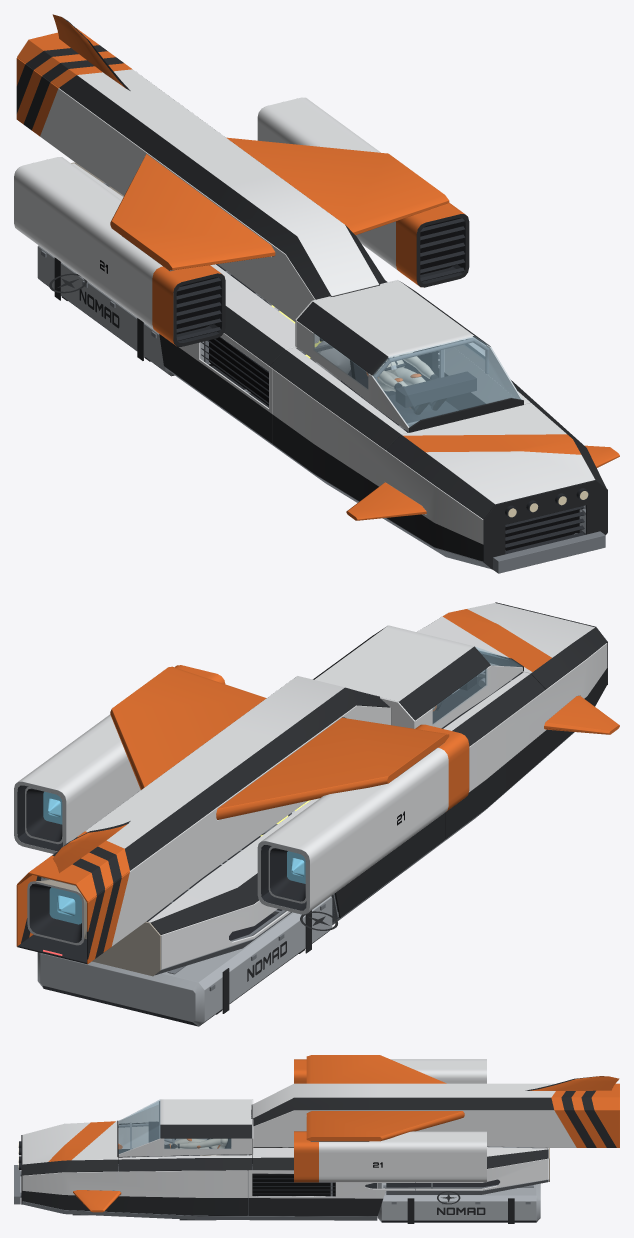
The model's file is nomad_core.fbx.
3 renders of one model, top to bottom at view 1: azimuth 30°, elevation 25°; view 2: azimuth 150°, elevation 25°; view 3: azimuth 270°, elevation 25°, orthographic. The views are drawn at different scales.
Parts seen in each view (by area): view 1: Boom_Top, Cabin_Top, Pod_Shroud_L, Nose_Top, Side_Front_L, Boom_Side_L, Pod_Arm_R, Pod_Arm_L, Pod_Shroud_R, Radiators, Side_Mid_L, Deck_Cabin_L (+17 smaller); view 2: Boom_Top, Pod_Shroud_L, Cargo_Module, Boom_Side_L, Pod_Arm_L, Pod_Arm_R, Cabin_Top, Side_Front_L, Pod_Shroud_R, Nose_Top, Deck_Boom_L, Side_Rear_L (+15 smaller); view 3: Boom_Top, Pod_Shroud_R, Side_Front_R, Boom_Side_R, Cabin_Top, Nose_Top, Cargo_Module, Pod_Arm_R, Side_Mid_R, Pod_Arm_L, Deck_Cabin_R, Pod_Shroud_L (+17 smaller).
Boxes of the visible parts, <box> form: Boom_Top: <box>17,28,386,299</box>; Cabin_Top: <box>296,280,522,427</box>; Pod_Shroud_L: <box>14,157,225,346</box>; Nose_Top: <box>386,403,606,519</box>; Side_Front_L: <box>272,369,483,561</box>; Boom_Side_L: <box>16,57,319,340</box>; Pod_Arm_R: <box>226,137,449,235</box>; Pod_Arm_L: <box>110,154,275,270</box>; Pod_Shroud_R: <box>257,97,469,287</box>; Radiators: <box>201,337,584,554</box>; Side_Mid_L: <box>159,333,272,443</box>; Deck_Cabin_L: <box>270,347,407,450</box>; Boom_Top: <box>17,676,390,901</box>; Pod_Shroud_L: <box>257,724,469,914</box>; Cargo_Module: <box>37,863,332,1026</box>; Boom_Side_L: <box>87,705,390,963</box>; Pod_Arm_L: <box>216,717,449,819</box>; Pod_Arm_R: <box>110,666,266,789</box>; Cabin_Top: <box>313,625,521,720</box>; Side_Front_L: <box>445,643,607,839</box>; Pod_Shroud_R: <box>14,665,225,853</box>; Nose_Top: <box>417,603,606,689</box>; Deck_Boom_L: <box>148,798,319,934</box>; Side_Rear_L: <box>161,900,290,969</box>; Boom_Top: <box>252,1083,619,1126</box>; Pod_Shroud_R: <box>294,1131,486,1182</box>; Side_Front_R: <box>22,1170,247,1215</box>; Boom_Side_R: <box>253,1110,619,1147</box>; Cabin_Top: <box>119,1099,251,1153</box>; Nose_Top: <box>22,1121,118,1175</box>; Cargo_Module: <box>377,1183,540,1222</box>; Pod_Arm_R: <box>306,1111,464,1141</box>; Side_Mid_R: <box>248,1170,414,1216</box>; Pod_Arm_L: <box>306,1055,446,1083</box>; Deck_Cabin_R: <box>118,1155,251,1171</box>; Pod_Shroud_L: <box>294,1059,486,1083</box>.
Bounding box in the file's own units: 249 × 166 × 725.
